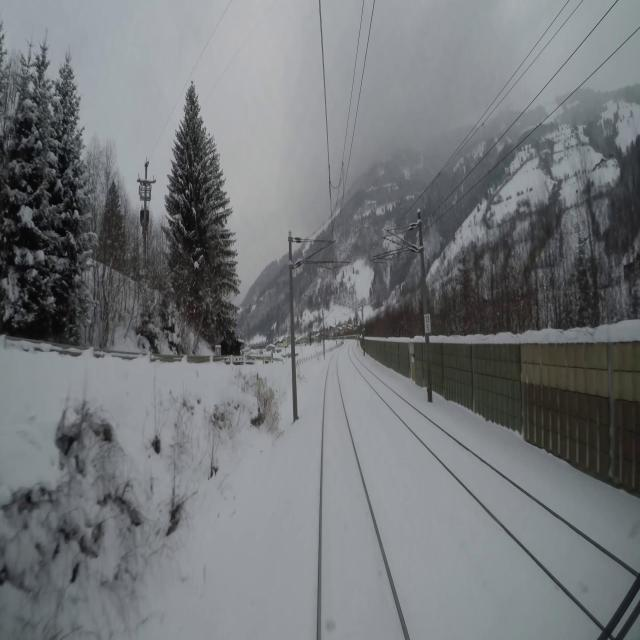rail-track: (350, 347, 636, 625), (322, 354, 404, 639)
